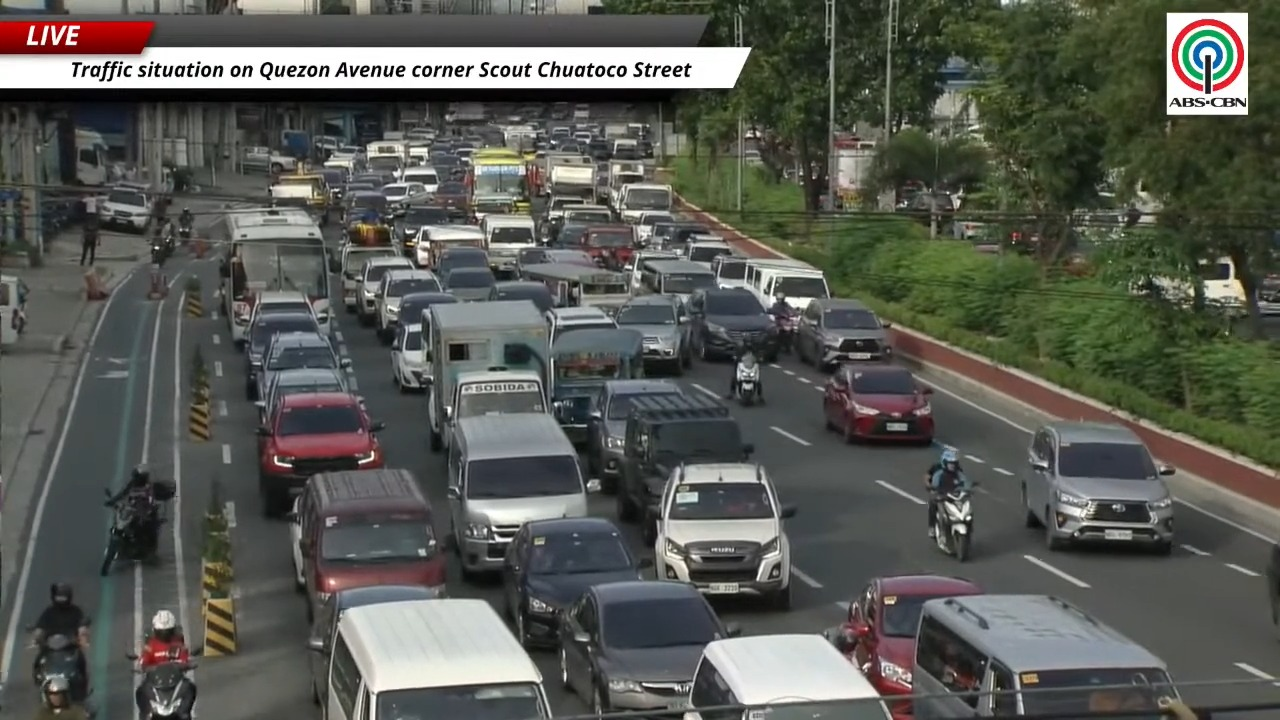bus: (211, 208, 331, 345), (466, 149, 530, 212)
car: (560, 580, 739, 711), (654, 462, 795, 609), (615, 393, 753, 543), (1021, 421, 1173, 554), (841, 575, 984, 715), (501, 518, 644, 646), (308, 584, 437, 706), (259, 393, 384, 517), (586, 378, 683, 494), (822, 363, 934, 444), (794, 298, 891, 369), (686, 288, 778, 362), (245, 311, 320, 400), (254, 332, 349, 398), (614, 295, 691, 374), (255, 368, 349, 422), (375, 268, 442, 343), (356, 255, 413, 326), (249, 291, 327, 331), (546, 307, 616, 345), (391, 322, 429, 391), (393, 204, 448, 251), (98, 186, 152, 233), (488, 280, 554, 313), (434, 246, 488, 282), (400, 290, 458, 323), (443, 267, 495, 301), (341, 190, 388, 225), (684, 236, 732, 268), (240, 146, 296, 173), (433, 179, 468, 219), (635, 211, 674, 246), (1265, 542, 1279, 629), (381, 182, 426, 207), (544, 248, 595, 266), (516, 247, 548, 275)
motorcycle: (100, 482, 175, 576), (32, 634, 88, 703), (135, 659, 195, 719), (934, 488, 972, 561), (734, 353, 759, 406), (773, 312, 798, 353), (150, 236, 168, 266), (178, 220, 192, 241)
truck: (426, 300, 549, 451), (443, 367, 548, 447), (615, 183, 673, 223), (74, 127, 108, 185), (608, 161, 644, 211), (549, 164, 595, 197), (604, 122, 628, 139)
